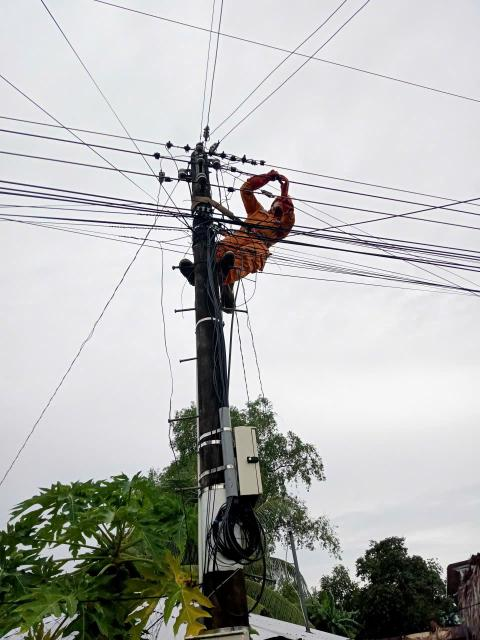harness: (196, 211, 272, 245)
shoes: (211, 253, 240, 283), (177, 257, 201, 285)
